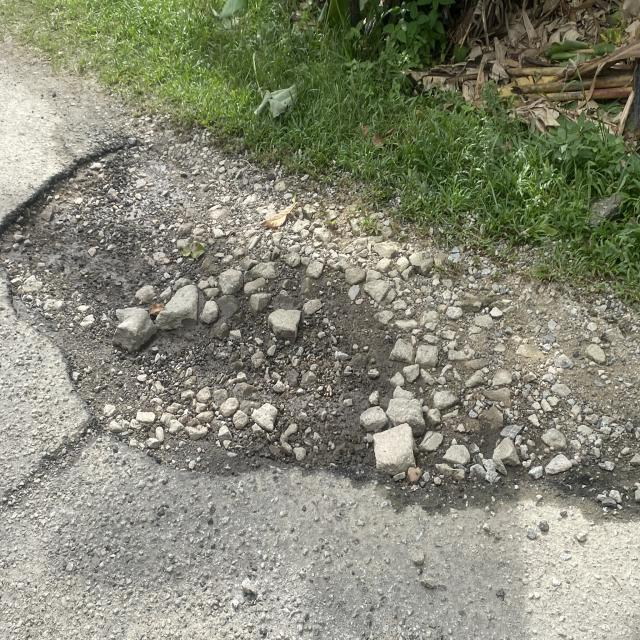pothole: (0, 144, 512, 519)
